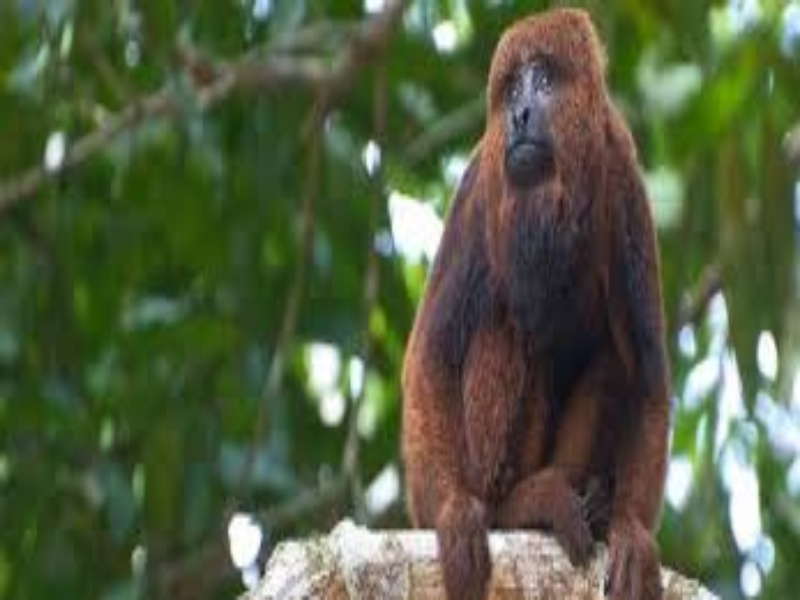monkey: (383, 10, 690, 584)
